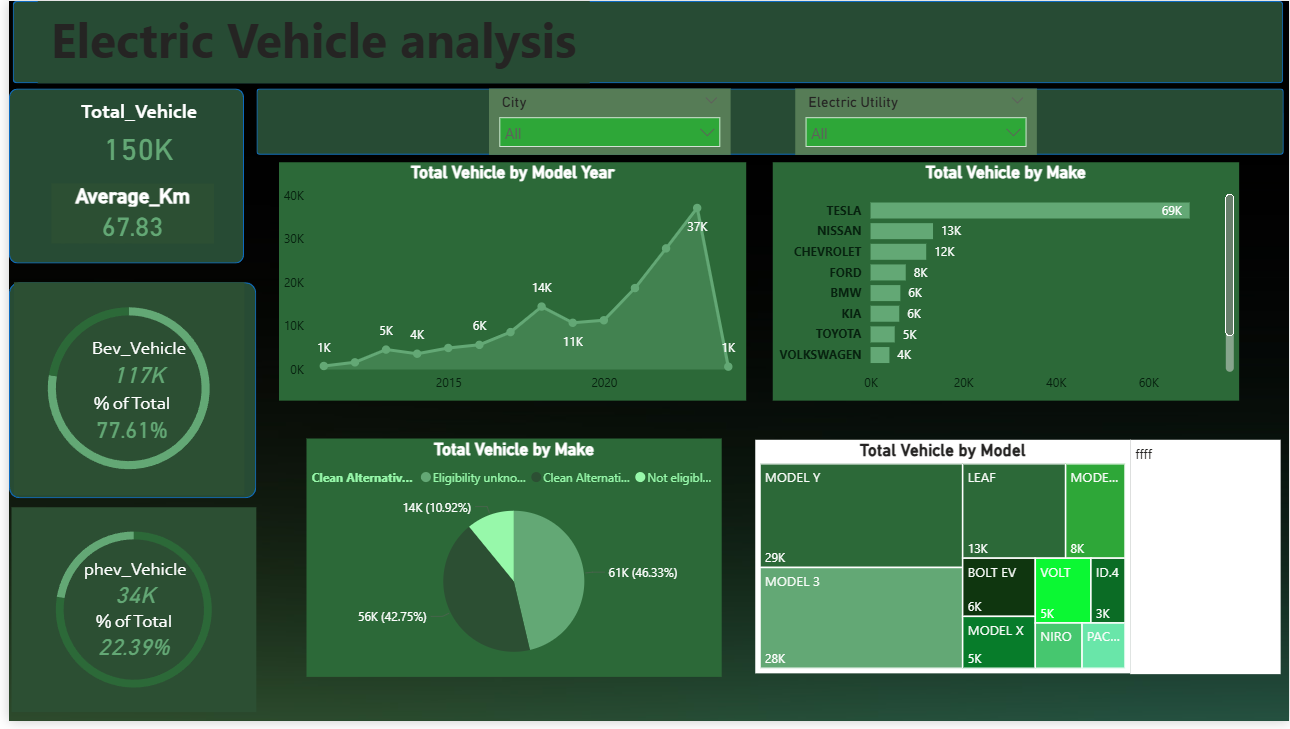

What the dashboard file says about the page in this screenshot:
{"tool":"powerbi","page":{"name":"Page 1","canvas":[1280,720],"ordinal":0},"visuals":[{"type":"shape","box":[4.1,0,1270.7,82.3],"z":0},{"type":"textbox","box":[28.8,0,551.6,82.3],"z":1000},{"type":"shape","box":[0,87.5,235,175],"z":2000},{"type":"card","title":"Total_Vehicle","fields":{"Values":["Electric_Vehicle_Population_Dat.Total_Vehicle"]},"box":[45,97.5,170,72.5],"z":3000},{"type":"card","title":"Average_Km","fields":{"Values":["Avg(Electric_Vehicle_Population_Dat.Electric Range)"]},"box":[42.5,182.5,162.5,60],"z":4000},{"type":"shape","box":[0,281.2,247.5,216.2],"z":5000},{"type":"donutChart","fields":{"Y":["Electric_Vehicle_Population_Dat.Total_Vehicle"],"Category":["Electric_Vehicle_Population_Dat.Electric Vehicle Type"]},"box":[5,281.2,230,212.5],"z":6000},{"type":"card","title":"Bev_Vehicle","fields":{"Values":["Electric_Vehicle_Population_Dat.Bev Vehicle"]},"box":[70,335,120,55],"z":7000},{"type":"card","title":"% of Total","fields":{"Values":["Electric_Vehicle_Population_Dat.percentagebev"]},"box":[63.8,390,118.8,53.8],"z":8000},{"type":"donutChart","fields":{"Y":["Electric_Vehicle_Population_Dat.Total_Vehicle"],"Category":["Electric_Vehicle_Population_Dat.Electric Vehicle Type"]},"box":[2.5,506.2,245,205],"z":9000},{"type":"card","title":"phev_Vehicle","fields":{"Values":["Electric_Vehicle_Population_Dat.phev Vehicle"]},"box":[66.2,556.2,120,52.5],"z":10000},{"type":"card","title":"% of Total","fields":{"Values":["Electric_Vehicle_Population_Dat.percentageofphev"]},"box":[56.2,608.8,137.5,51.2],"z":11000},{"type":"shape","box":[247.5,87.5,1027.5,66.2],"z":12000},{"type":"areaChart","title":"Total Vehicle by Model Year","fields":{"Y":["Electric_Vehicle_Population_Dat.Total_Vehicle"],"Category":["Electric_Vehicle_Population_Dat.Model Year"]},"box":[270,161.2,467.5,238.8],"z":13000},{"type":"barChart","title":"Total Vehicle by Make","fields":{"Category":["Electric_Vehicle_Population_Dat.Make"],"Y":["Electric_Vehicle_Population_Dat.Total_Vehicle"]},"box":[763.8,161.2,466.2,238.8],"z":14000},{"type":"pieChart","title":"Total Vehicle by Make","fields":{"Category":["Electric_Vehicle_Population_Dat.Clean Alternative Fuel Vehicle (CAFV) Eligibility"],"Y":["Electric_Vehicle_Population_Dat.Total_Vehicle"]},"box":[297.5,437.5,415,238.8],"z":15000},{"type":"treemap","title":"Total Vehicle by Model","fields":{"Group":["Electric_Vehicle_Population_Dat.Model"],"Values":["Electric_Vehicle_Population_Dat.Total_Vehicle"]},"box":[746.2,438.8,375,233.8],"z":16000},{"type":"textbox","box":[1121,439,150,234],"z":17000},{"type":"slicer","fields":{"Values":["Electric_Vehicle_Population_Dat.City"]},"box":[480,87.5,241.2,66.2],"z":18000},{"type":"slicer","fields":{"Values":["Electric_Vehicle_Population_Dat.Electric Utility"]},"box":[786.2,87.5,241.2,66.2],"z":19000}]}

Visuals, with their boxes in screenshot pixels (x1, y1, x2, y2), scaled from the page's 1280x720 canvas onto the 1290x729 screenshot:
shape: {"x1": 4, "y1": 0, "x2": 1285, "y2": 83}
textbox: {"x1": 29, "y1": 0, "x2": 585, "y2": 83}
shape: {"x1": 0, "y1": 89, "x2": 237, "y2": 266}
"Total_Vehicle" card: {"x1": 45, "y1": 99, "x2": 217, "y2": 172}
"Average_Km" card: {"x1": 43, "y1": 185, "x2": 207, "y2": 246}
shape: {"x1": 0, "y1": 285, "x2": 249, "y2": 504}
donutChart - Electric_Vehicle_Population_Dat.Total_Vehicle x Electric_Vehicle_Population_Dat.Electric Vehicle Type: {"x1": 5, "y1": 285, "x2": 237, "y2": 500}
"Bev_Vehicle" card: {"x1": 71, "y1": 339, "x2": 191, "y2": 395}
"% of Total" card: {"x1": 64, "y1": 395, "x2": 184, "y2": 449}
donutChart - Electric_Vehicle_Population_Dat.Total_Vehicle x Electric_Vehicle_Population_Dat.Electric Vehicle Type: {"x1": 3, "y1": 513, "x2": 249, "y2": 720}
"phev_Vehicle" card: {"x1": 67, "y1": 563, "x2": 188, "y2": 616}
"% of Total" card: {"x1": 57, "y1": 616, "x2": 195, "y2": 668}
shape: {"x1": 249, "y1": 89, "x2": 1285, "y2": 156}
"Total Vehicle by Model Year" areaChart: {"x1": 272, "y1": 163, "x2": 743, "y2": 405}
"Total Vehicle by Make" barChart: {"x1": 770, "y1": 163, "x2": 1240, "y2": 405}
"Total Vehicle by Make" pieChart: {"x1": 300, "y1": 443, "x2": 718, "y2": 685}
"Total Vehicle by Model" treemap: {"x1": 752, "y1": 444, "x2": 1130, "y2": 681}
textbox: {"x1": 1130, "y1": 444, "x2": 1281, "y2": 681}
slicer - Electric_Vehicle_Population_Dat.City: {"x1": 484, "y1": 89, "x2": 727, "y2": 156}
slicer - Electric_Vehicle_Population_Dat.Electric Utility: {"x1": 792, "y1": 89, "x2": 1035, "y2": 156}
